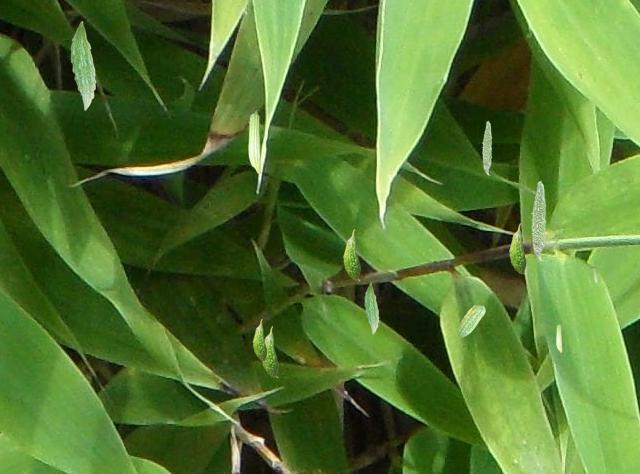ampalaya: (70, 20, 96, 111), (531, 180, 546, 261), (342, 229, 360, 281), (508, 223, 526, 275), (457, 304, 485, 337), (248, 109, 261, 174), (262, 326, 278, 378), (364, 282, 379, 335), (252, 318, 267, 362), (481, 120, 492, 175), (556, 322, 562, 353), (592, 266, 598, 282)
